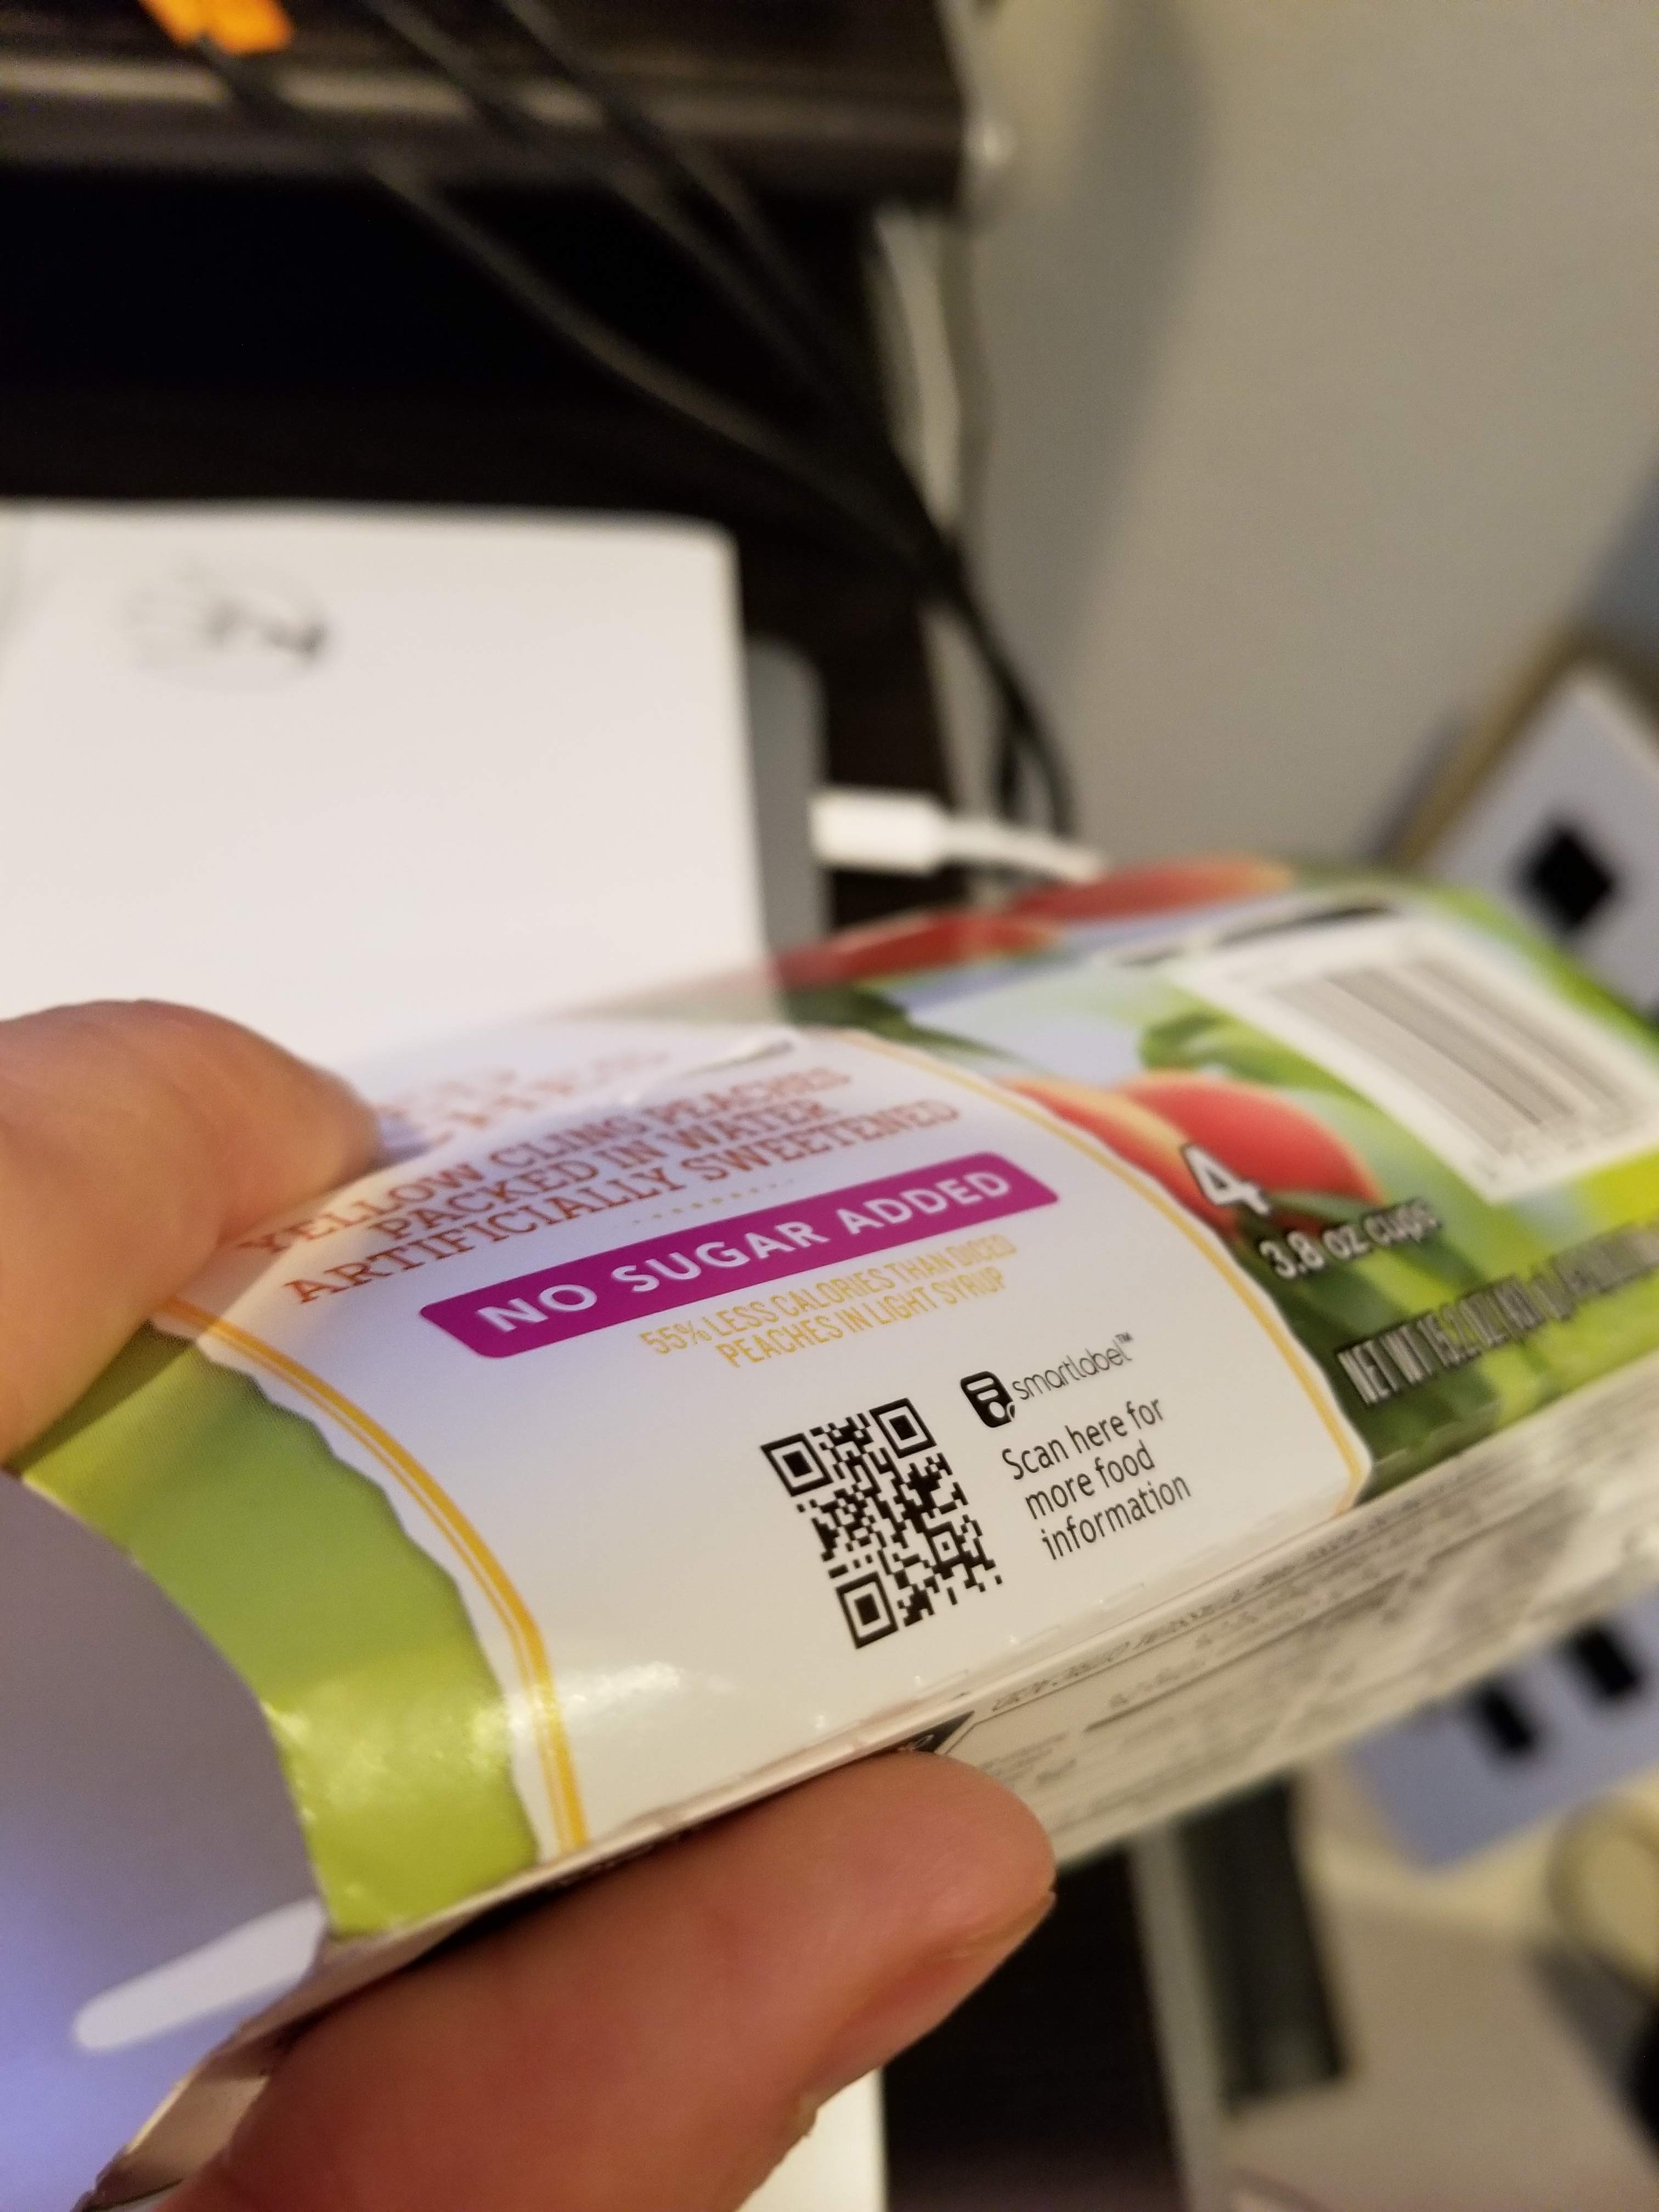QR_CODE: (720, 1364, 1040, 1672)
